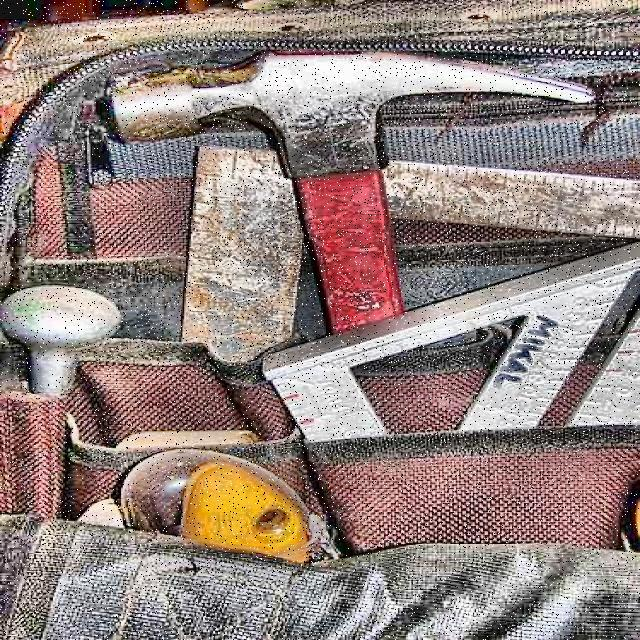hammer: (105, 44, 602, 509)
